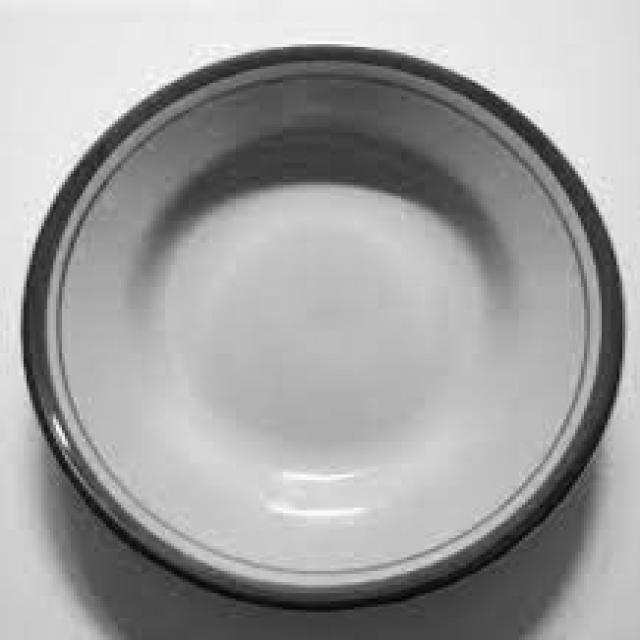dish: (14, 26, 630, 623)
